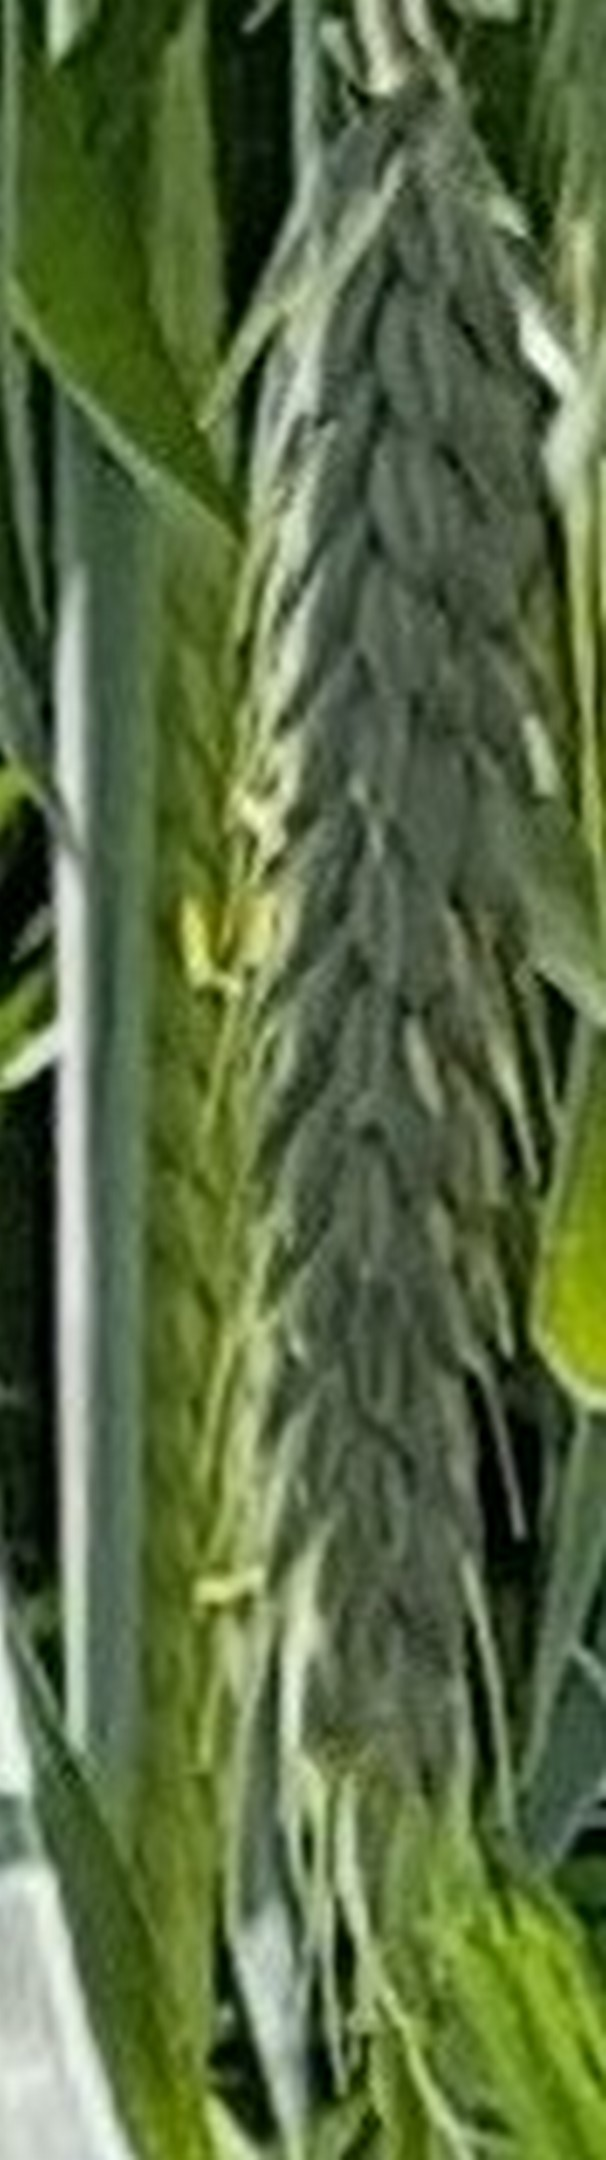Healthy Wheat: (211, 41, 606, 1884)
